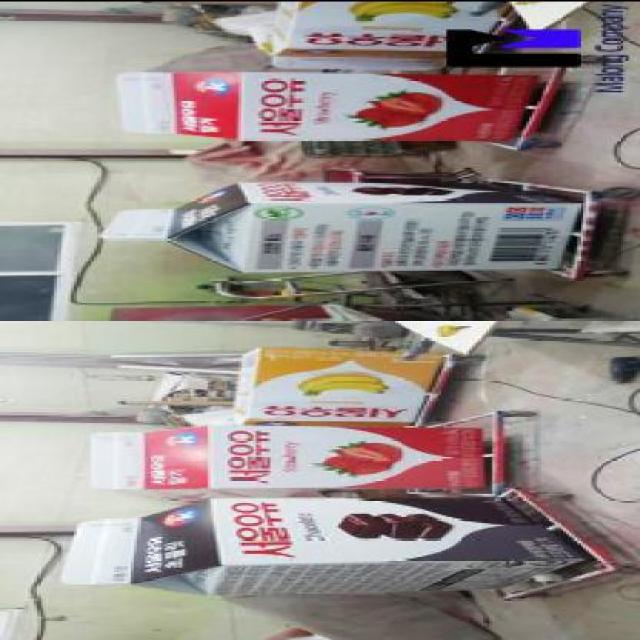non_white_jug: (50, 494, 576, 598), (81, 173, 584, 276), (114, 68, 529, 140), (76, 422, 495, 490)
